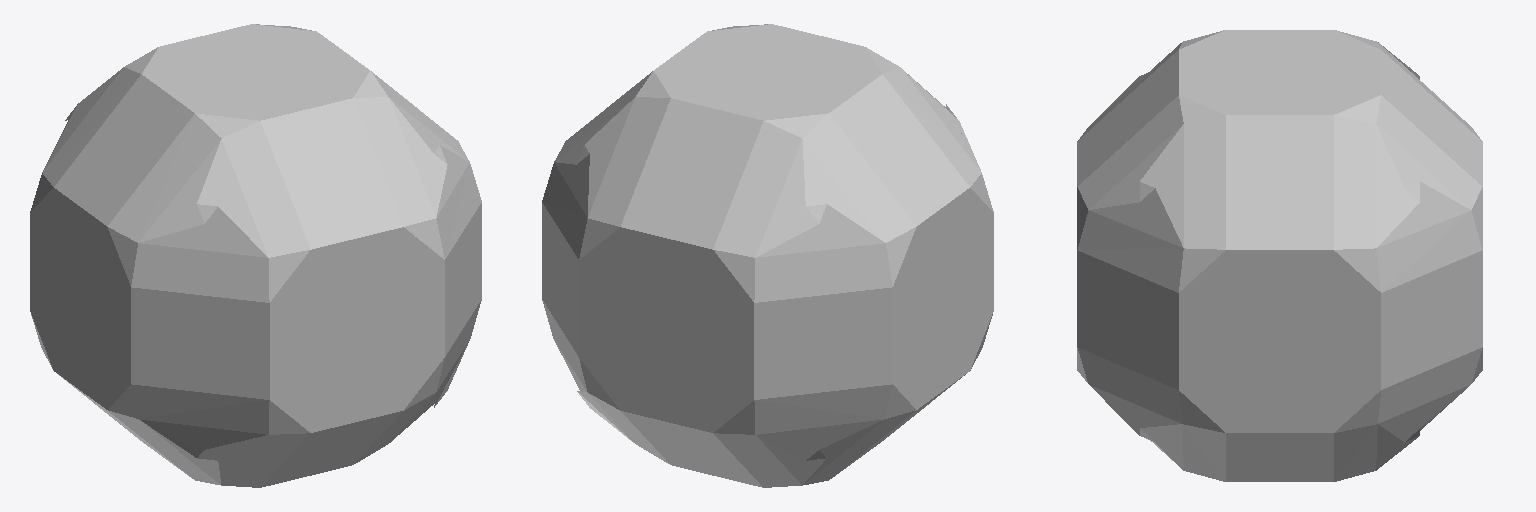
File: snake_body.obj
The picture shows the model from 3 angles: view 1: azimuth 30°, elevation 25°; view 2: azimuth 150°, elevation 25°; view 3: azimuth 270°, elevation 25°; orthographic projection.
Visible parts, largest first — view 1: cube1; view 2: cube1; view 3: cube1.
Part boxes in pixels (x1,y1,x2,y2): cube1: (30, 24, 481, 487); cube1: (542, 24, 993, 487); cube1: (1077, 30, 1482, 481).
Bounding box in the file's own units: 1 × 1 × 1.